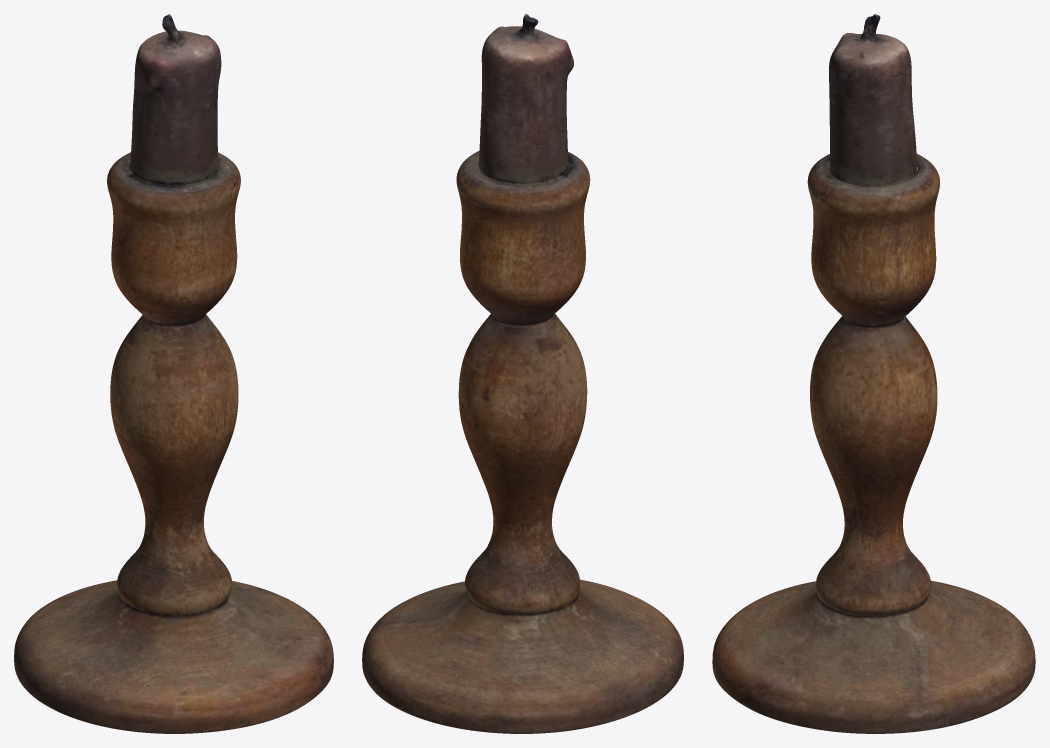
The model's file is ph-wooden_candlestick.glb.
The picture shows the model from 3 angles, left to right: view 1: azimuth 30°, elevation 25°; view 2: azimuth 150°, elevation 25°; view 3: azimuth 270°, elevation 25°; orthographic projection.
Visible parts, largest first — view 1: wooden_candlestick; view 2: wooden_candlestick; view 3: wooden_candlestick.
Boxes of the visible parts, x1,y1,x2,y2 form: wooden_candlestick: [14, 14, 333, 733]; wooden_candlestick: [362, 14, 683, 733]; wooden_candlestick: [712, 14, 1035, 733].
Size of the model in its own units: 0.0972 by 0.2197 by 0.0987.
Materials: 1 (1 with a texture image).
